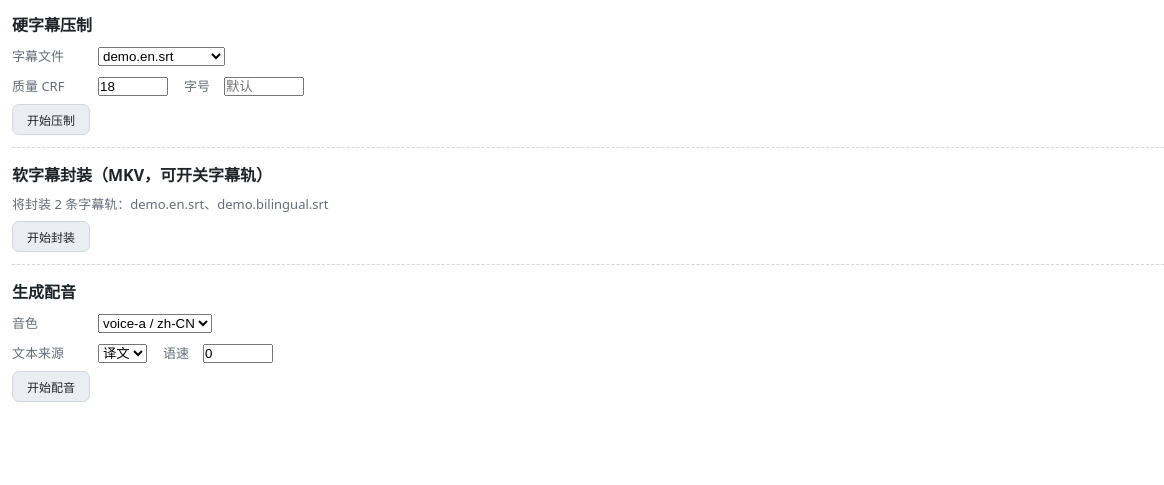
MediaTools › 配音出现静音段时明确警告，而不是让用户拿到全静音音轨
Step 1. Click the button "开始配音" → [51, 386], box top-left (12, 371), bottom-right (90, 402)
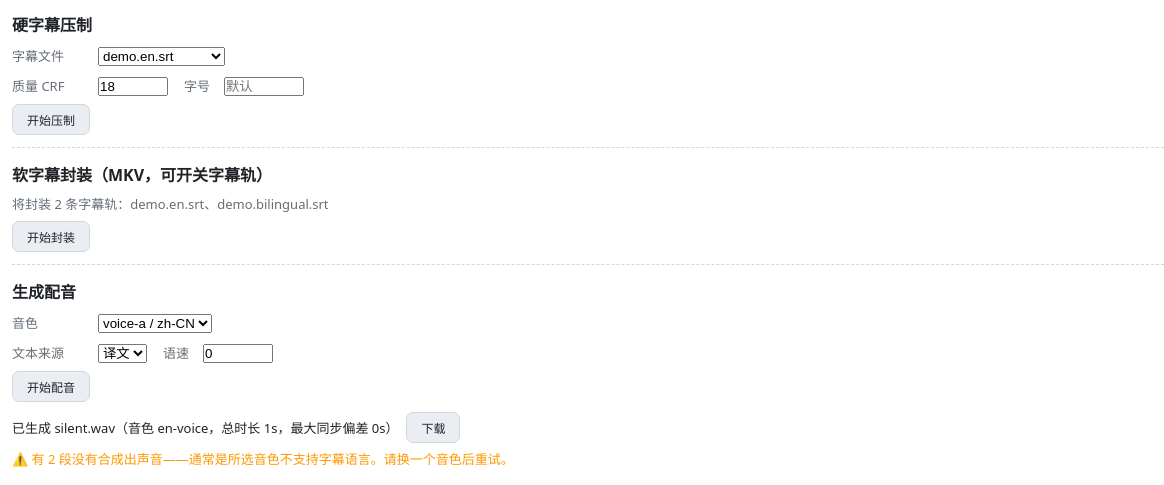
expect the text "⚠️ 有 2 段没有合成出声音——通常是所选音色不支持字幕语言。请换一个音色后重试。" is shown: met, box top-left (12, 450), bottom-right (514, 468)
